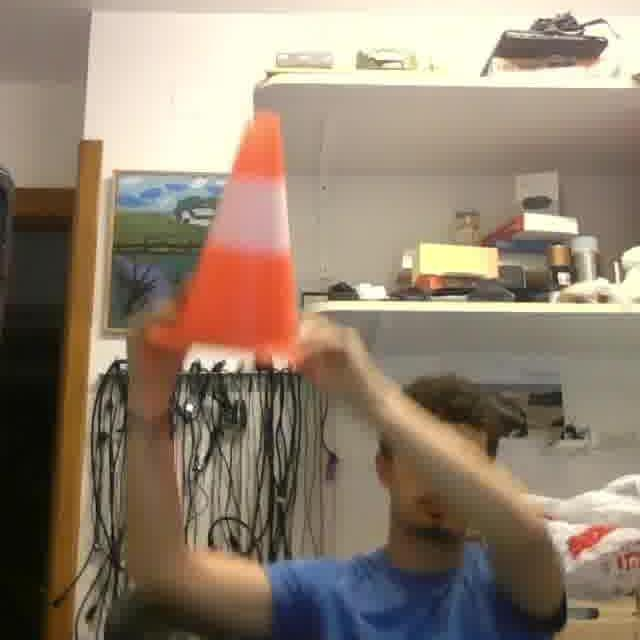NO-Hardhat: (396, 371, 498, 441)
NO-Mask: (389, 491, 473, 540)
NO-Safety Vest: (306, 548, 536, 640)
Person: (120, 297, 567, 640)
Safety Cone: (141, 99, 339, 375)
